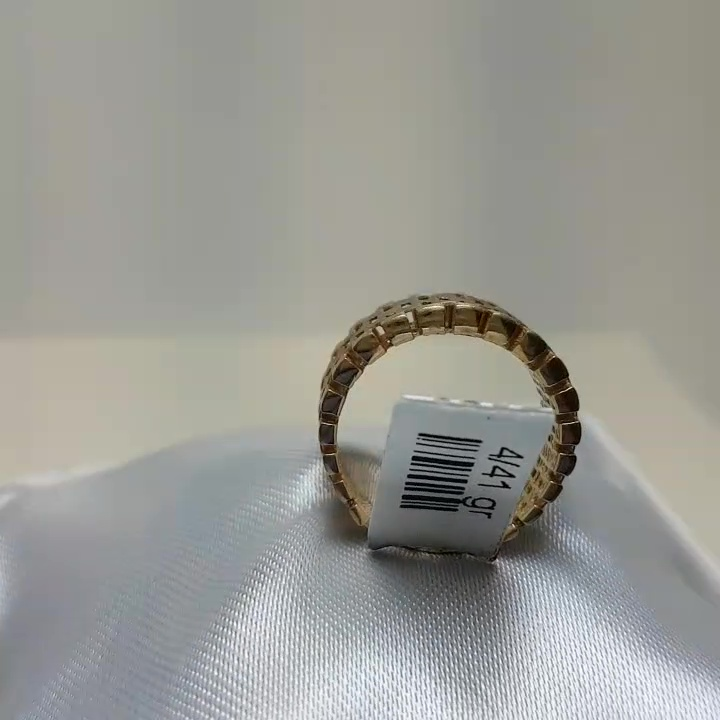Ring 1: (261, 278, 587, 584)
